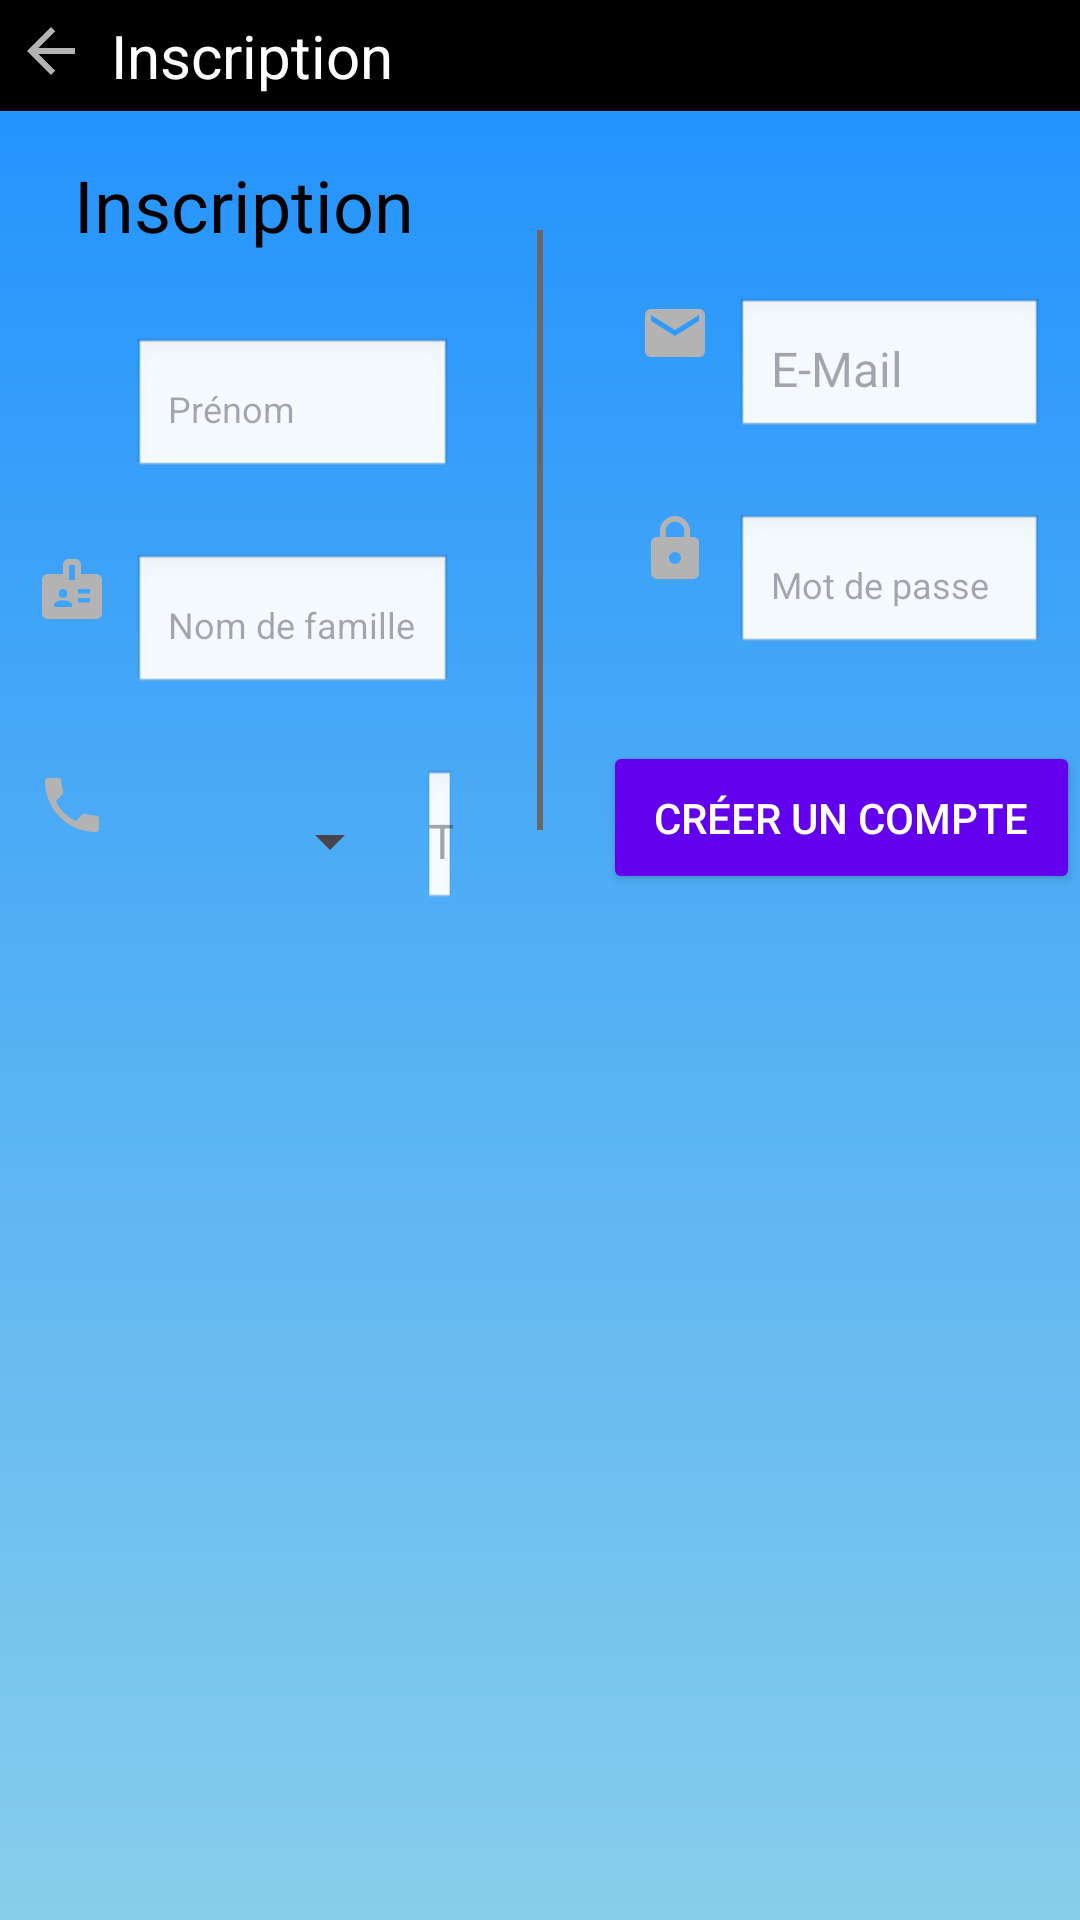

Named icons in this screenshot (1080 × 1920) and their bounding boxes, bbox(x1, y1, x2, y2):
Back: bbox(27, 27, 75, 75)
Icône LastName: bbox(42, 559, 102, 619)
Icône Password: bbox(651, 516, 699, 579)
Icône Téléphone: bbox(45, 778, 99, 832)
